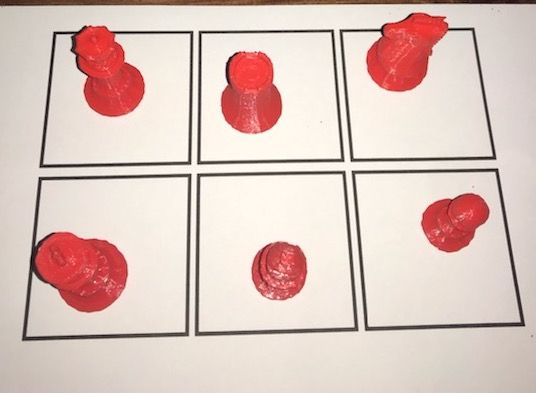Red Bishop: (246, 239, 310, 308)
Red Castle: (216, 45, 291, 138)
Red King: (27, 227, 139, 317), (68, 19, 149, 119)
Red Knight: (365, 6, 450, 106)
Red Pawn: (419, 187, 492, 257)
